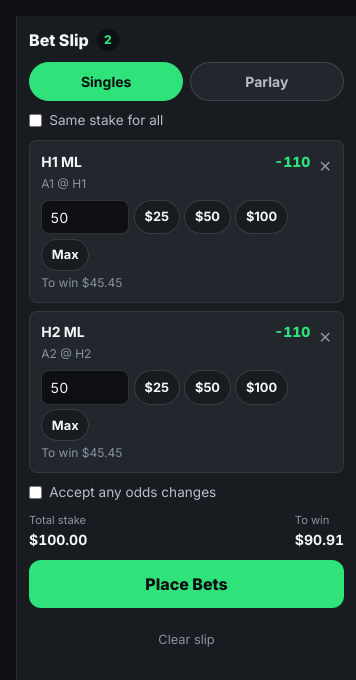
BetSlip › stops at a wrong PIN, forgets it and asks again (Review Focus 4)
Click the button "Place Bets". click: click(186, 584)
box: [29,560,344,608]
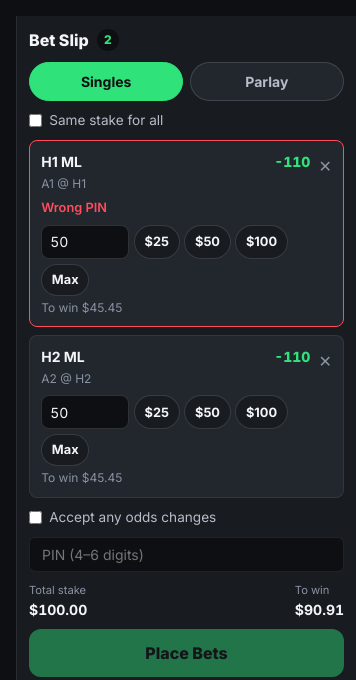
Now the password field labelled "PIN" is shown, box [29,537,344,572]
